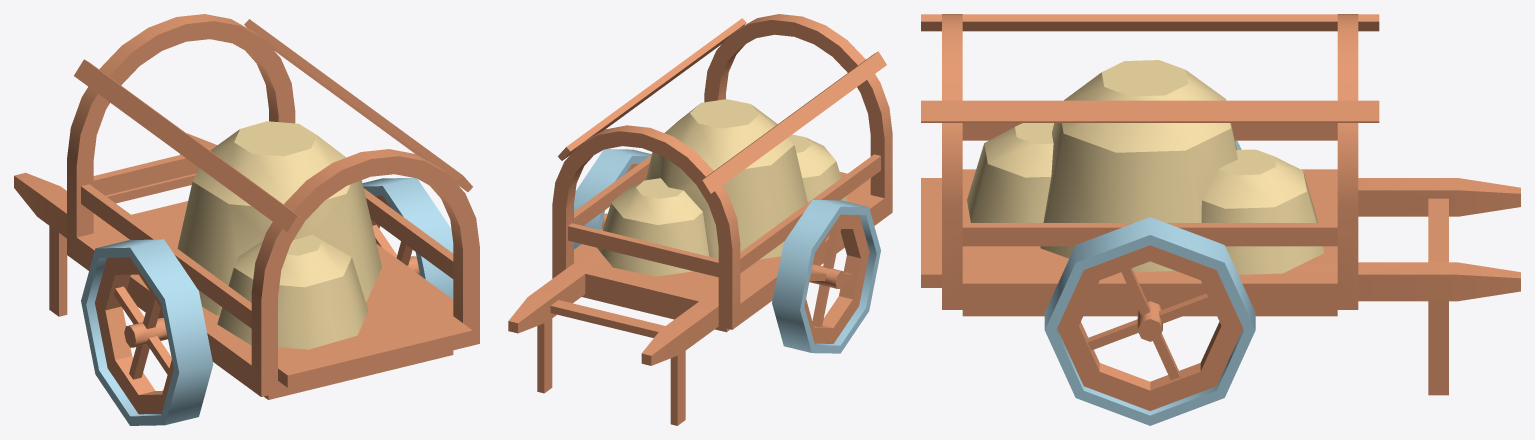
The model's file is cartHigh.obj.
The picture shows the model from 3 angles, left to right: view 1: azimuth 30°, elevation 25°; view 2: azimuth 150°, elevation 25°; view 3: azimuth 270°, elevation 25°; orthographic projection. The views are drawn at different scales.
Visible parts, largest first — view 1: cartHigh, hay, wheel; view 2: cartHigh, hay, wheel; view 3: cartHigh, hay, wheel.
Part boxes in pixels (box(x1,y1,x2,y2)): cartHigh: box(14, 14, 479, 399); hay: box(177, 121, 381, 349); wheel: box(81, 178, 453, 425); cartHigh: box(508, 14, 892, 425); hay: box(597, 99, 848, 276); wheel: box(574, 149, 880, 353); cartHigh: box(921, 14, 1520, 395); hay: box(967, 60, 1323, 274); wheel: box(1044, 140, 1255, 425).
Bounding box in the file's own units: 0.8525 × 0.8605 × 1.44.
